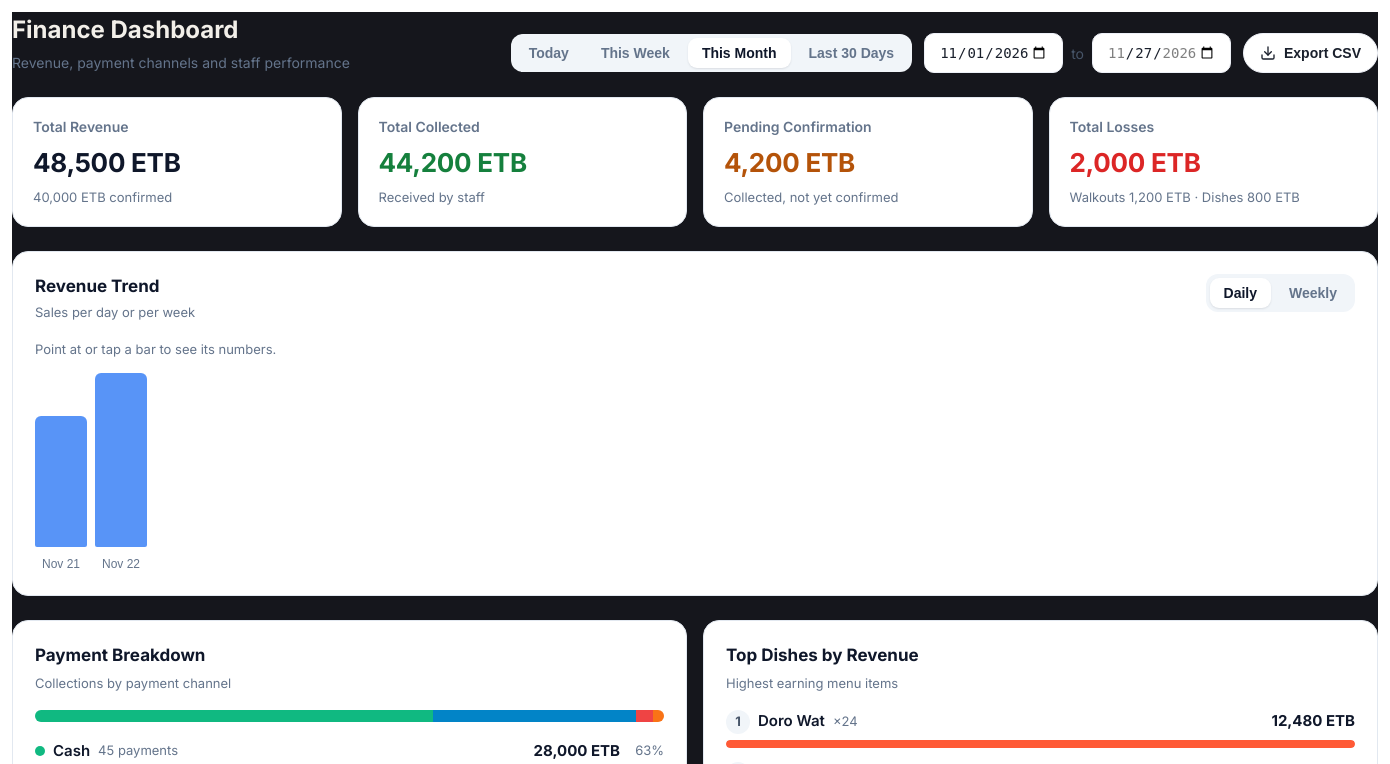
FinanceDashboard › reloads only the chart when switching to weekly, and shows a failed export on the page
The image size is (1390, 764).
Click the button "Weekly": (1313, 292) [1275,278,1351,308]
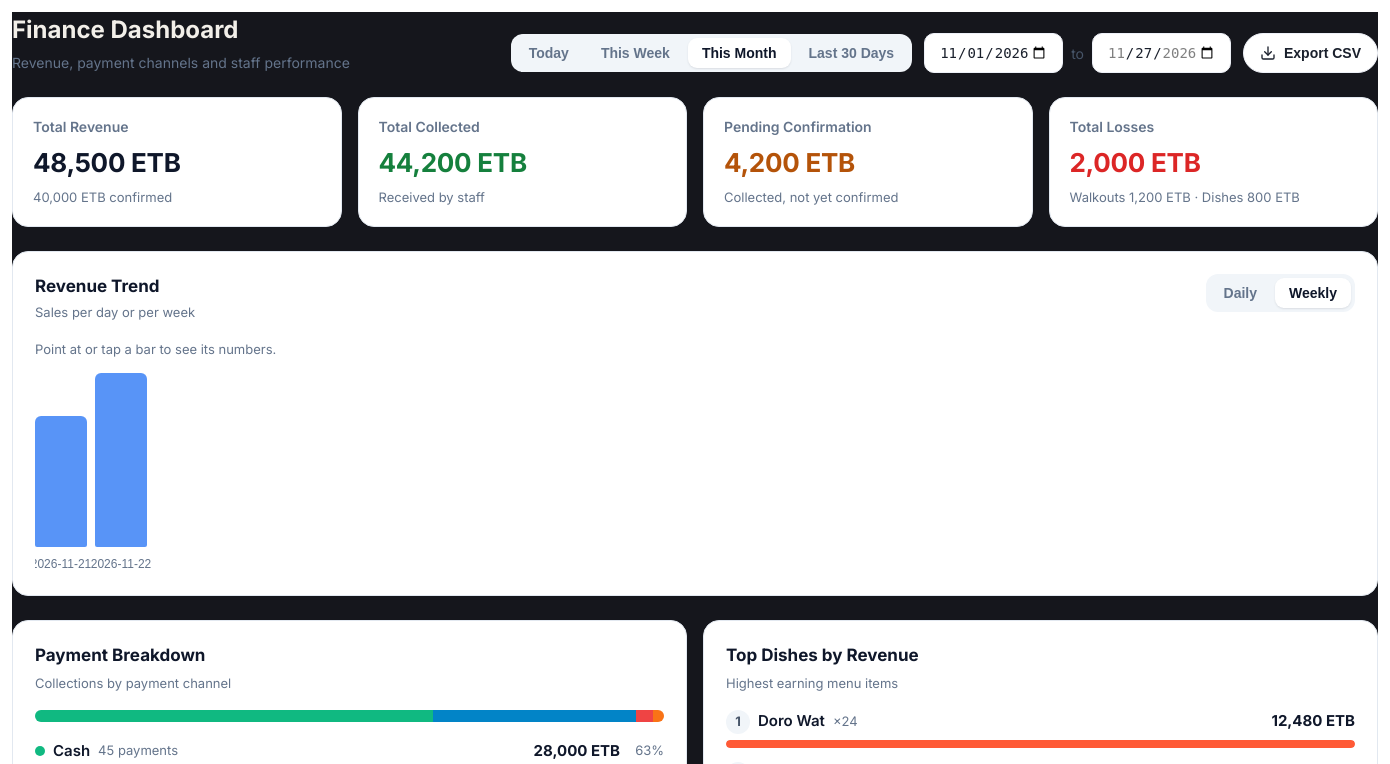
Check: the text "48,500 ETB" is shown, box [33,147,181,178]
Click the button "Export CSV": (1310, 53) [1243,33,1378,73]
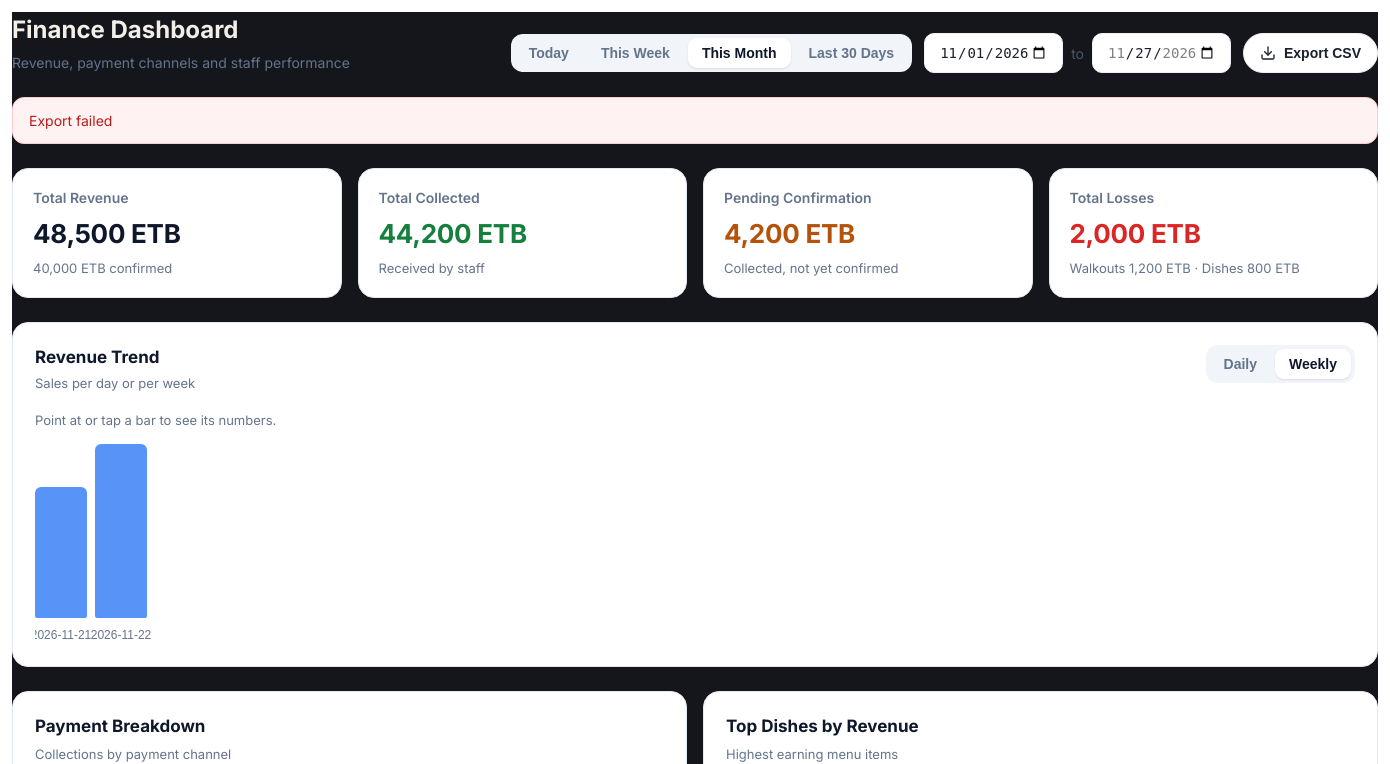
Check: the message reads "Export failed", box [29,112,112,129]
